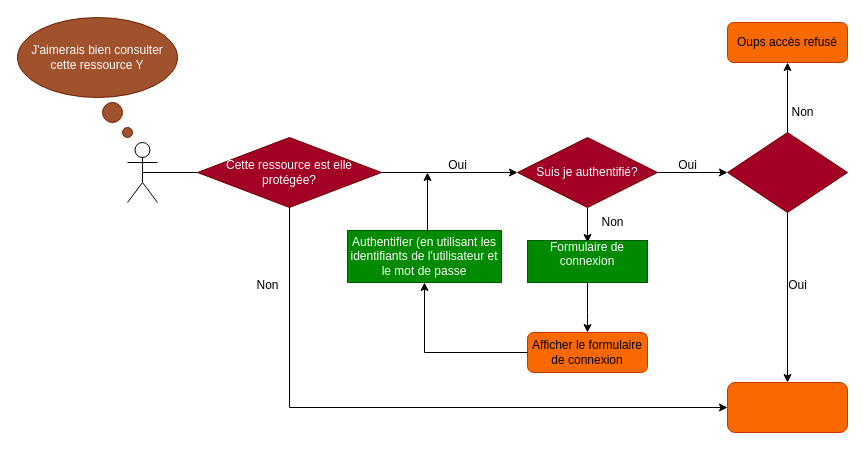
Image size: 865x450. Some labels were removed from this diagram. The centre of each missing label's shape, as x and y in pixels:
"Moi" belongs at [142,172].
"Suis je autorisé?" belongs at [787,172].
"Super je peux consulter ma ressource" belongs at [787,407].
